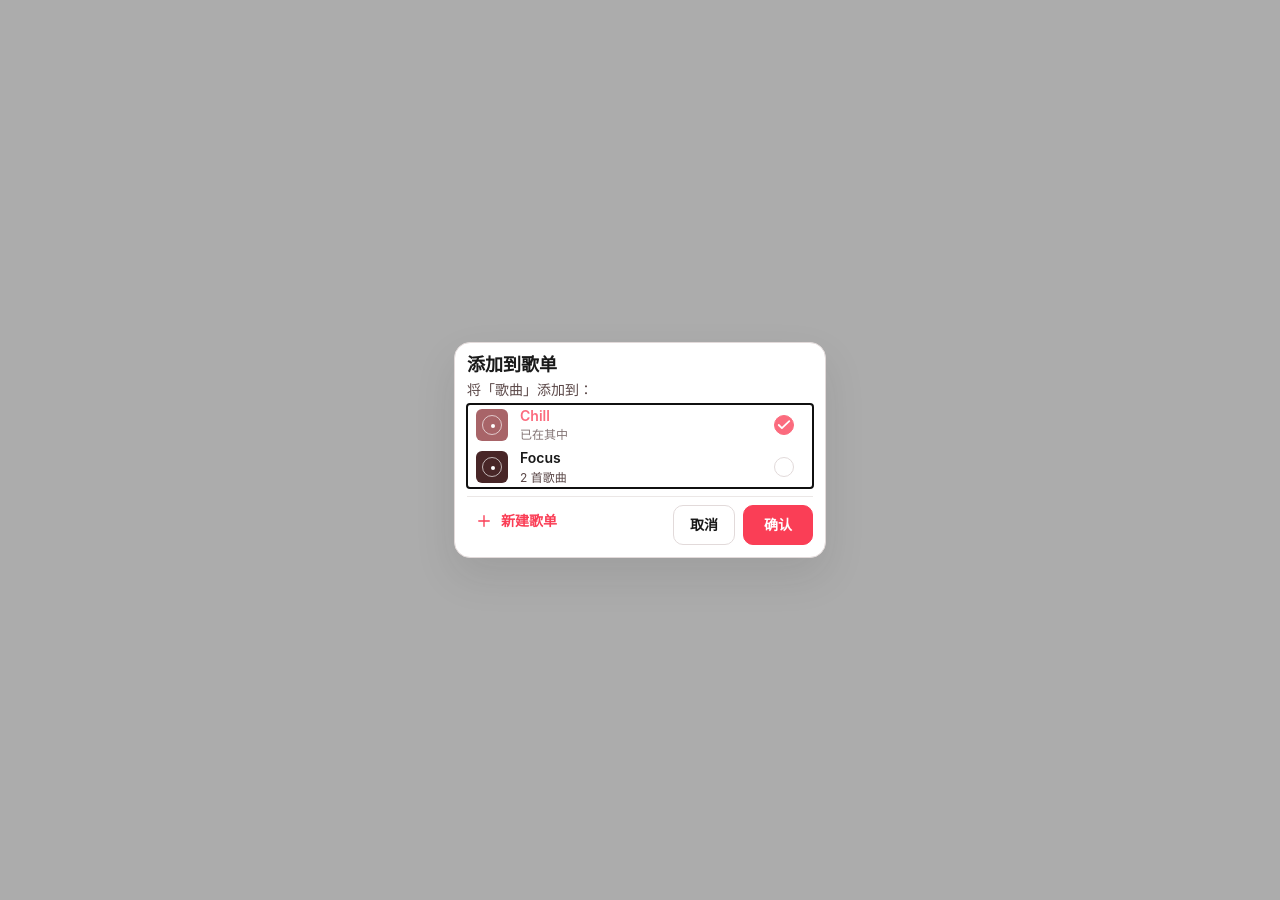
AddToPlaylistDialog (task 10.9) › keeps the authoritative picker open when membership commit fails
Check: the option with aria-label "Chill，已在其中" is shown, box top-left (467, 404), bottom-right (803, 445)
What coordinates should you click on to do the following:
click the option labelled "Focus 2 首歌曲"
I would click on:
 (492, 467)
Its box is top-left (467, 446), bottom-right (803, 488).
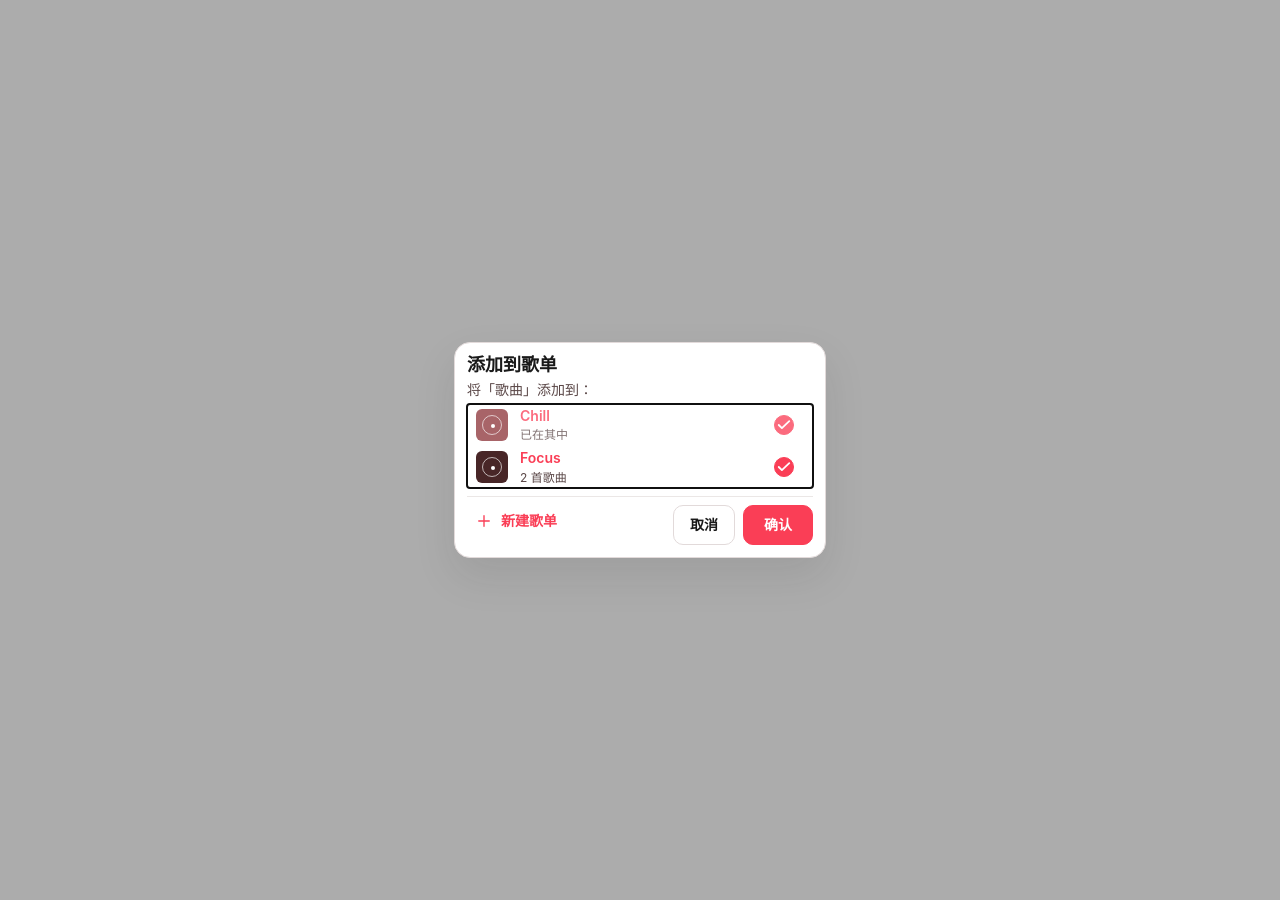
What coordinates should you click on to do the following:
click the button "确认"
I would click on:
 (778, 525)
Its box is top-left (743, 505), bottom-right (813, 545).
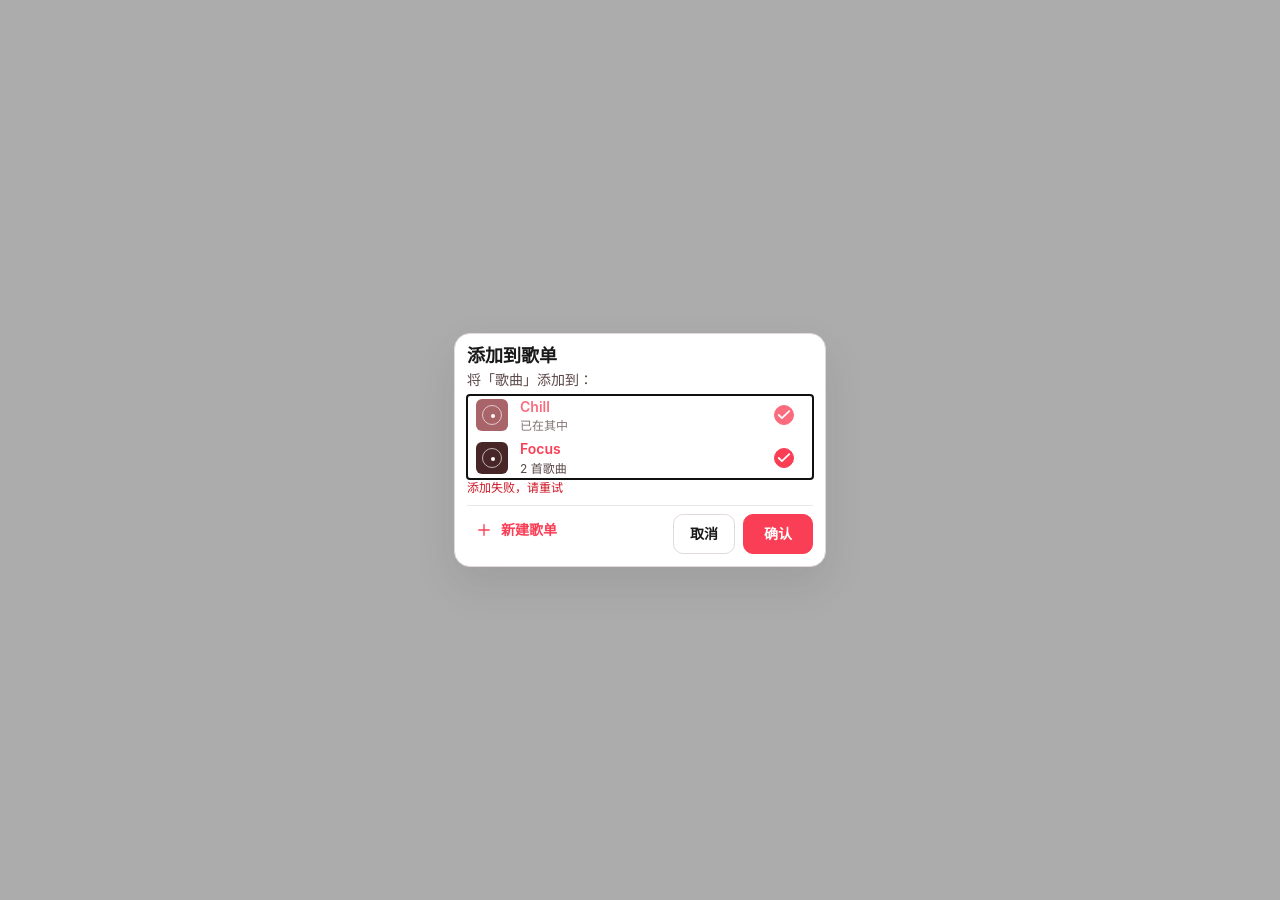
Check: the dialog with test id "add-to-playlist-dialog" is shown, box top-left (454, 333), bottom-right (826, 567)
Check: the text "添加失败，请重试" is shown, box top-left (467, 480), bottom-right (563, 495)
